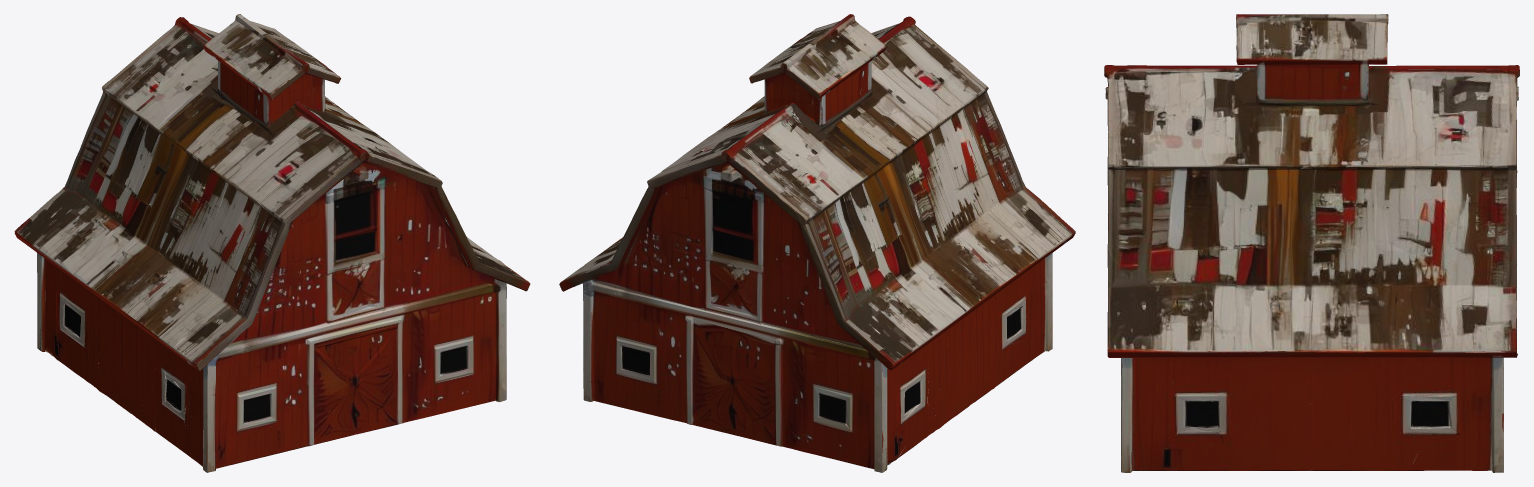
Rendered from barn.glb.
3 views of the same model, side by side, from view 1: azimuth 30°, elevation 25°; view 2: azimuth 150°, elevation 25°; view 3: azimuth 270°, elevation 25° (orthographic). The views are drawn at different scales.
Visible parts, largest first — view 1: obj.obj; view 2: obj.obj; view 3: obj.obj.
Part boxes in pixels (bbox=[...]): obj.obj: bbox=[14, 14, 530, 472]; obj.obj: bbox=[559, 14, 1075, 472]; obj.obj: bbox=[1104, 14, 1519, 472].
Bounding box in the file's own units: 9.39 × 9 × 9.
1 material, 1 textured.
